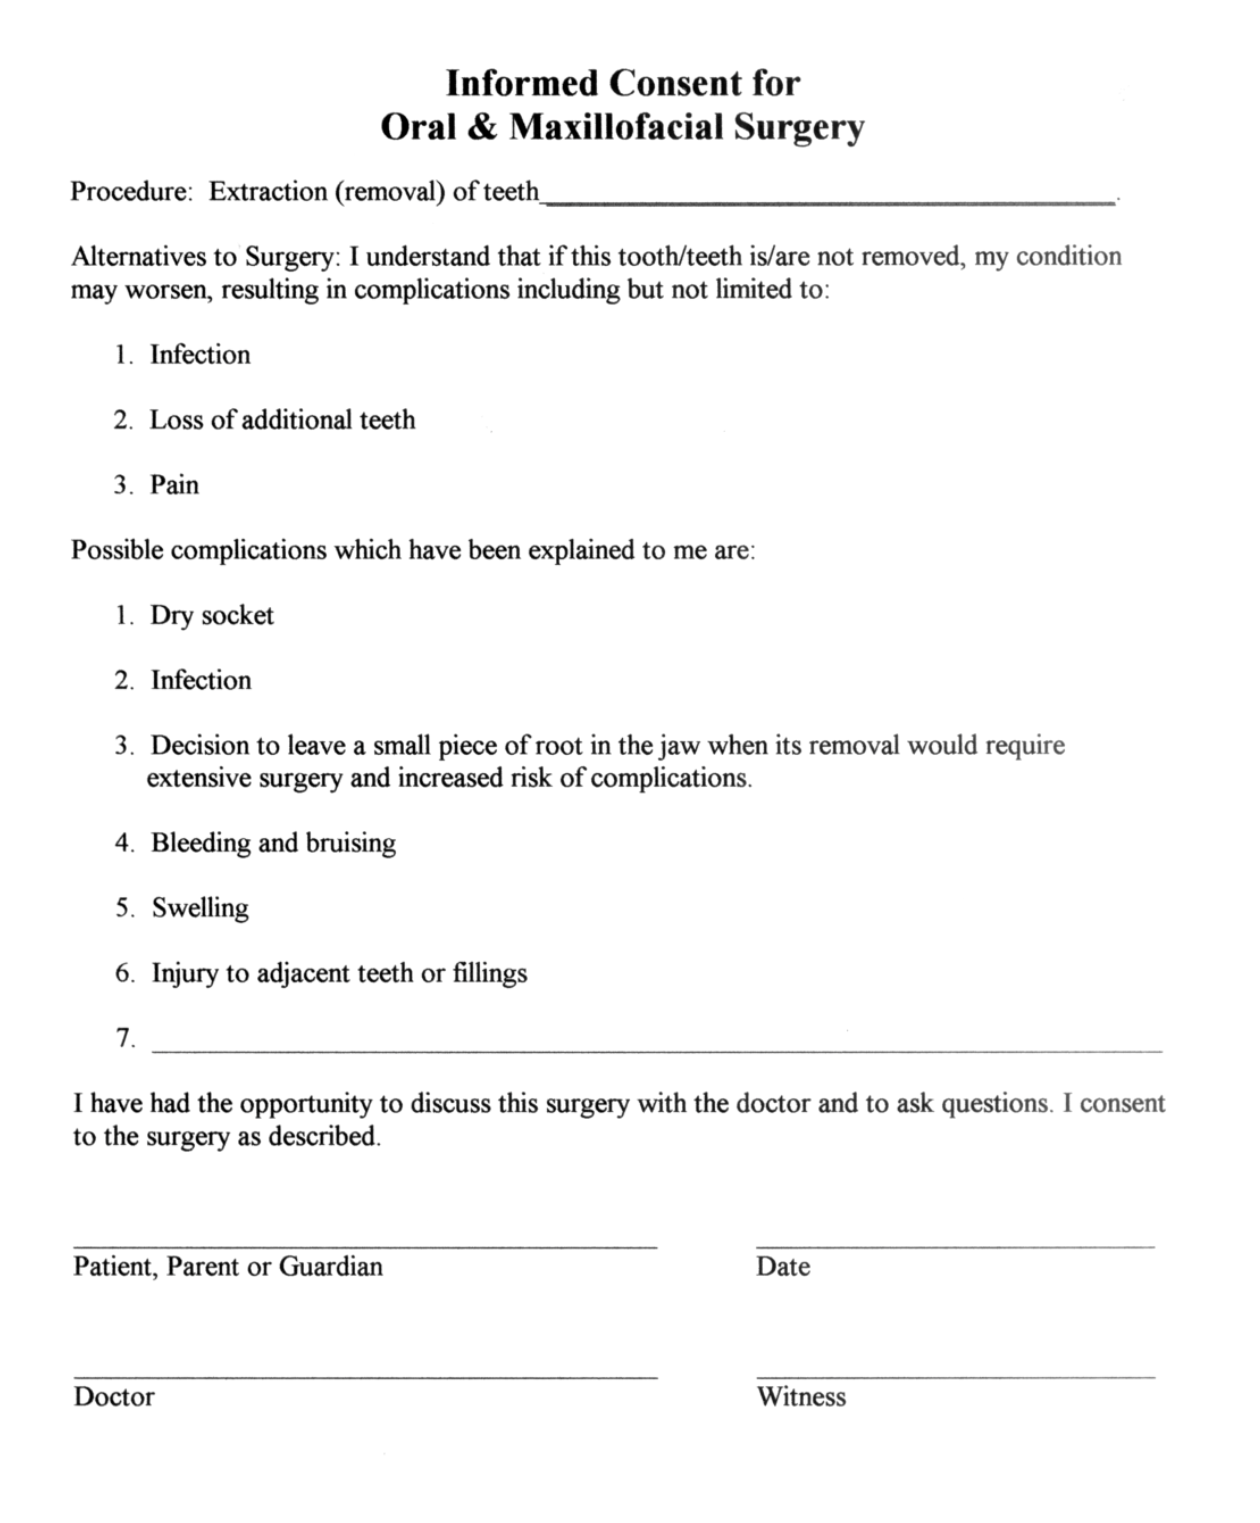textline: (140, 997, 1177, 1066), (62, 1329, 676, 1397), (531, 157, 1128, 219), (61, 1200, 674, 1260), (743, 1198, 1178, 1261), (745, 1332, 1178, 1393)
